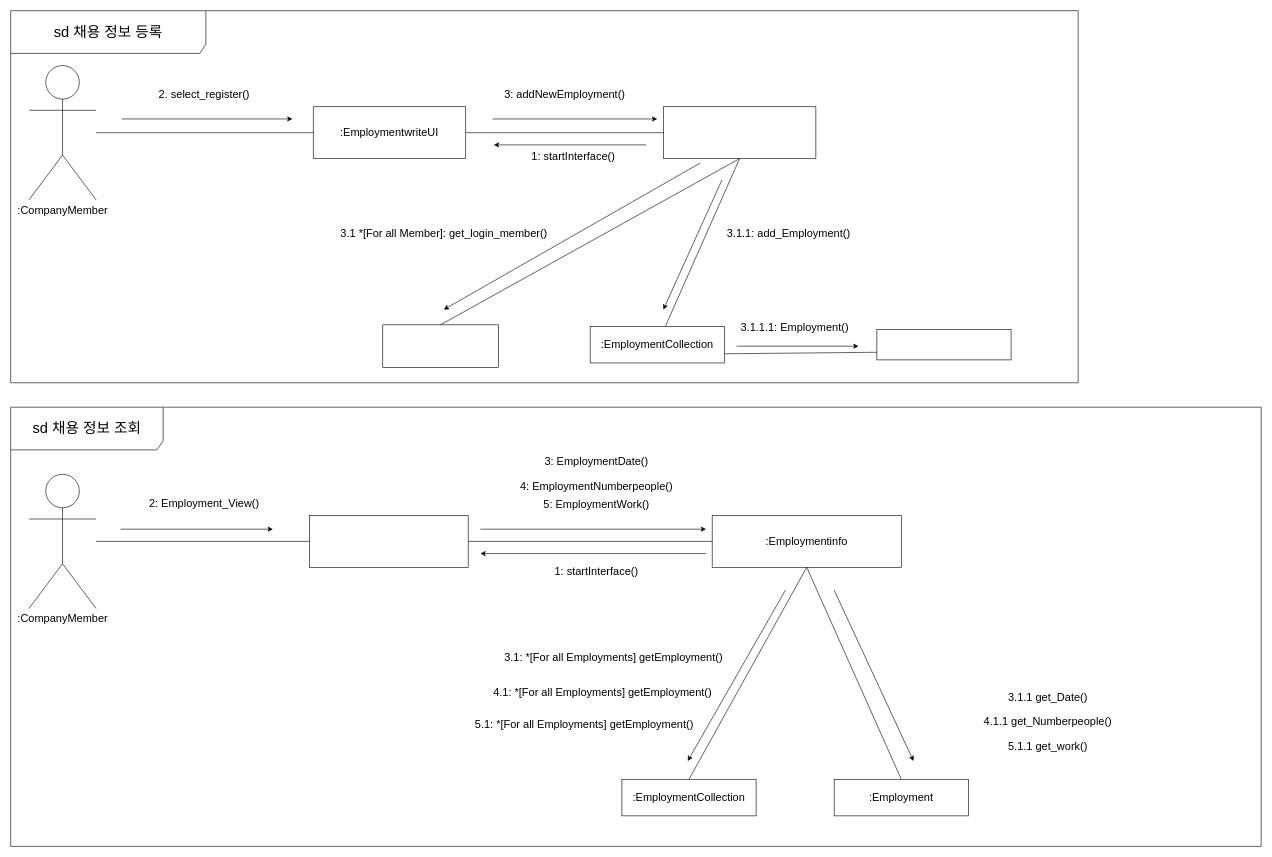
Some shapes in this 1272 by 857 pixel diagram are drawn without their labels. Here are the shapes that lost their labels. From the top down, the centre of each, then its label:
At pixel 739 132: ":Employment write".
At pixel 440 346: ": MemberCollection".
At pixel 943 344: "newEmployment :Employment".
At pixel 388 541: ":EmploymentinfoUI".
